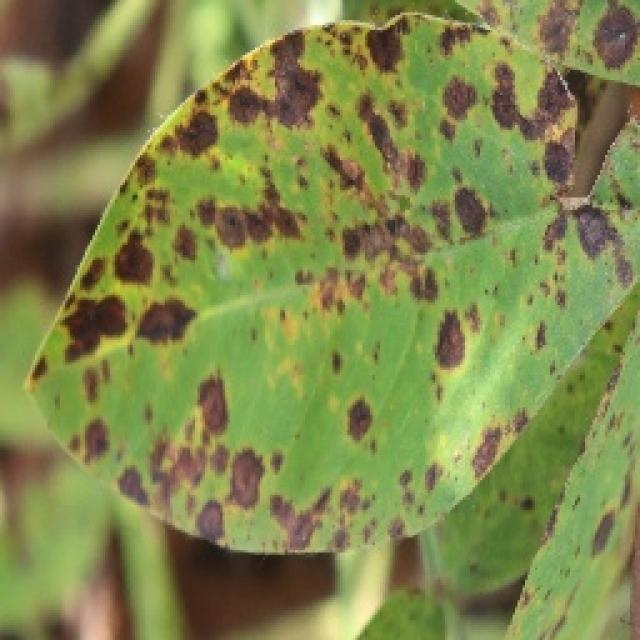Yellowish: (19, 0, 632, 620)
